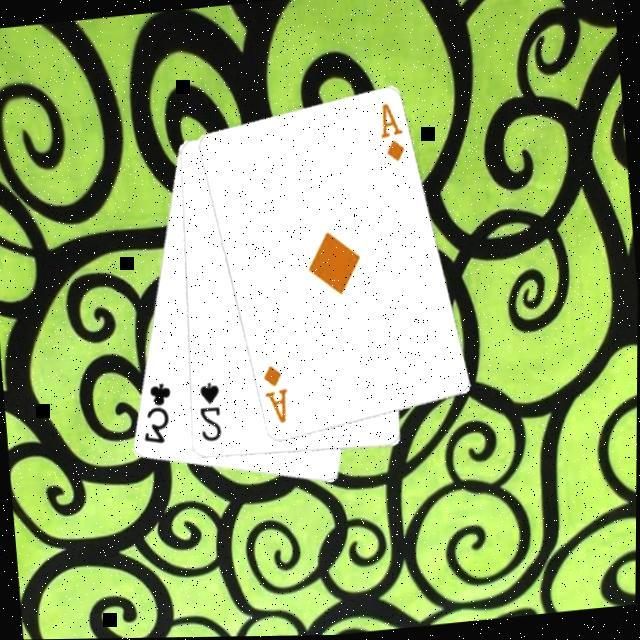2S: (191, 379, 224, 446)
3C: (134, 380, 176, 450)
AD: (256, 363, 291, 429), (372, 101, 406, 168)
